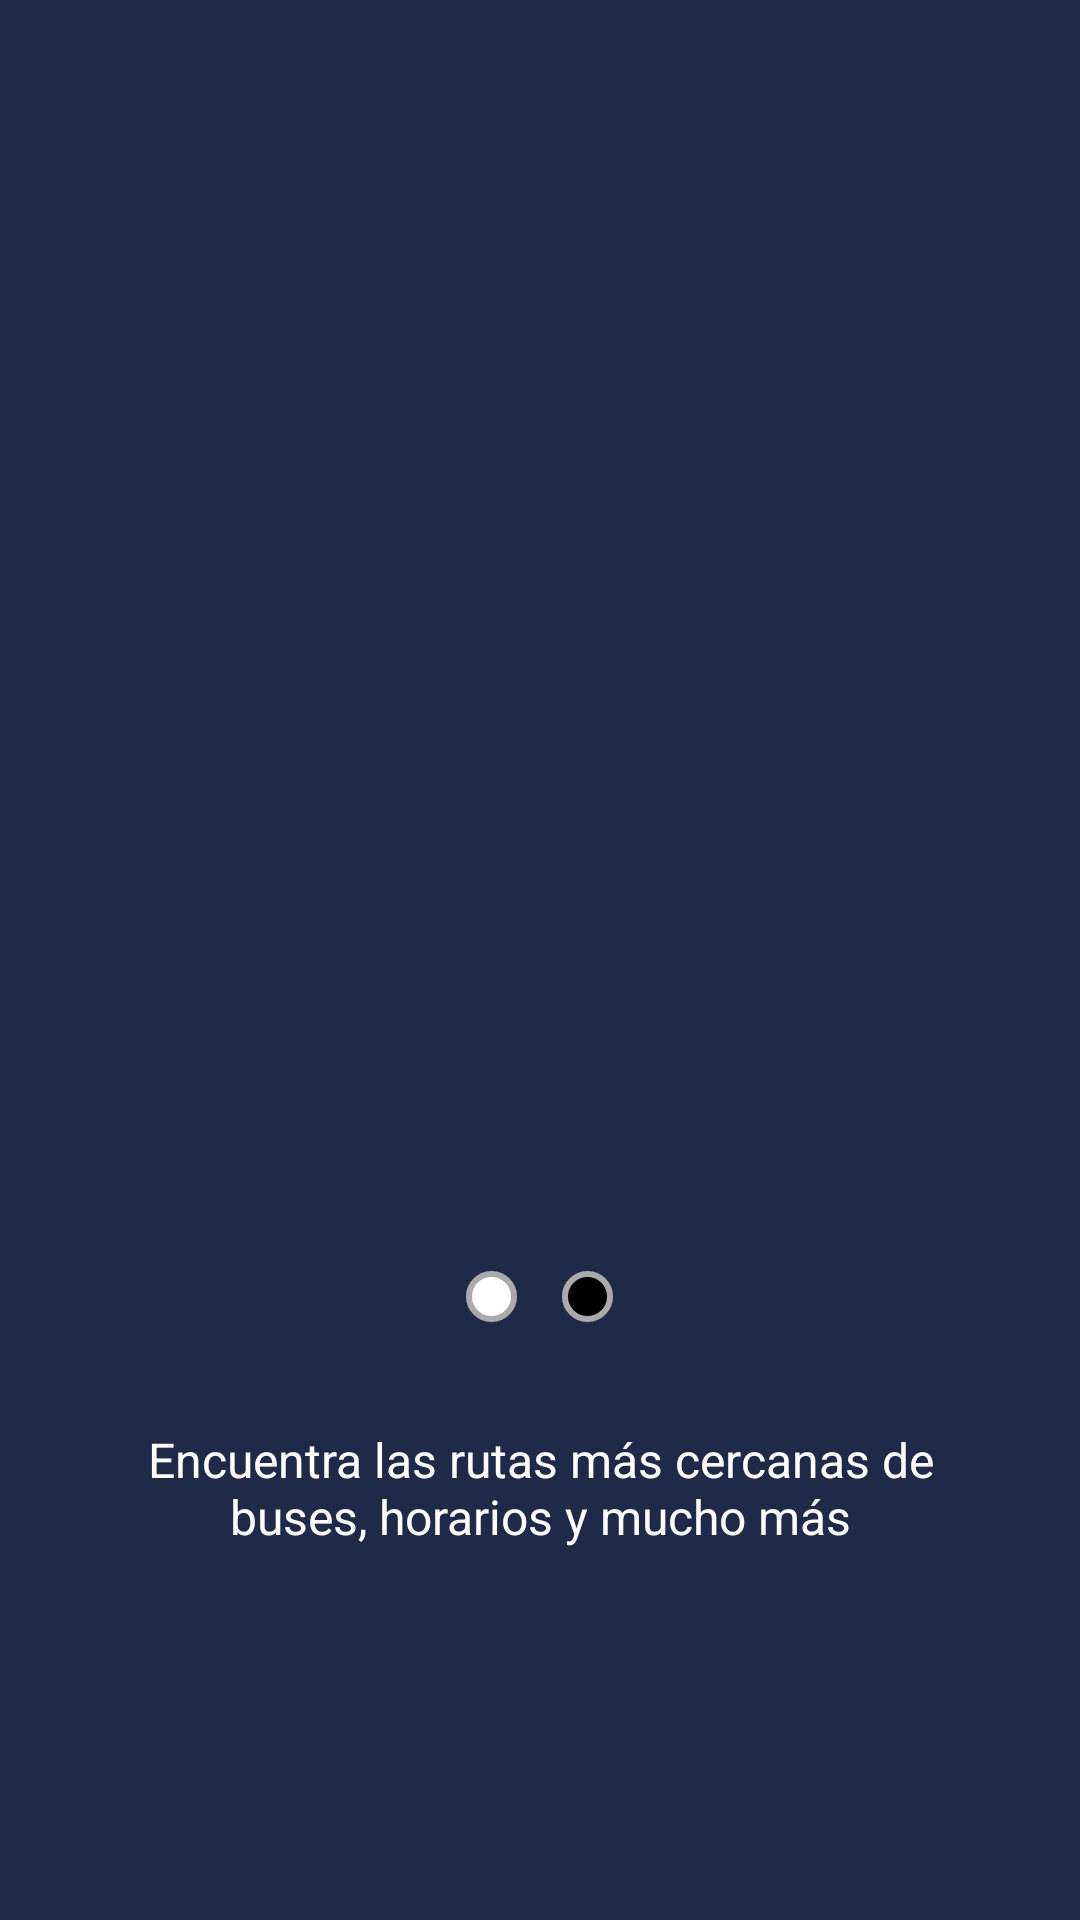

Where to tap for icons on this 1080px×1920px app screen, as point (x, y):
circleblack: point (587, 1296)
circlewhite: point (491, 1296)
